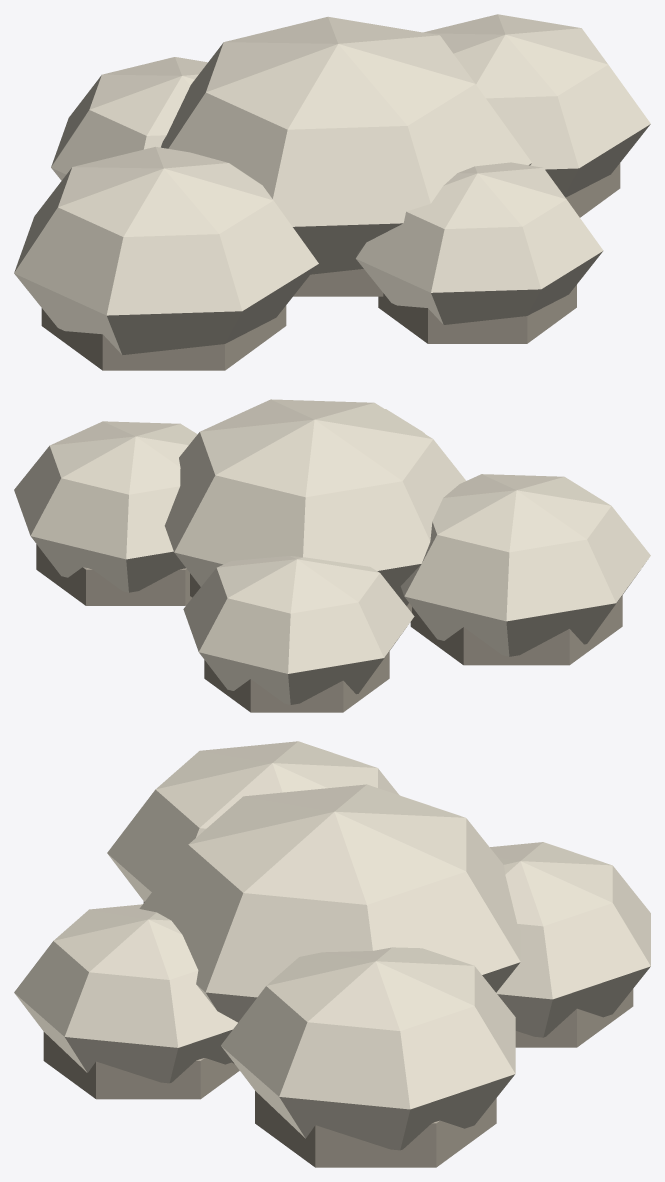
File: cloud_bank.fbx
3 views of the same model, one above another, from view 1: azimuth 30°, elevation 25°; view 2: azimuth 150°, elevation 25°; view 3: azimuth 270°, elevation 25° (orthographic). The views are drawn at different scales.
Parts seen in each view (by area): view 1: Prop; view 2: Prop; view 3: Prop.
Part boxes in pixels (x1=…): Prop: x1=14, y1=14, x2=650, y2=370; Prop: x1=14, y1=399, x2=650, y2=712; Prop: x1=14, y1=741, x2=650, y2=1167.
Bounding box in the file's own units: 3.81 × 3.08 × 1.34.
